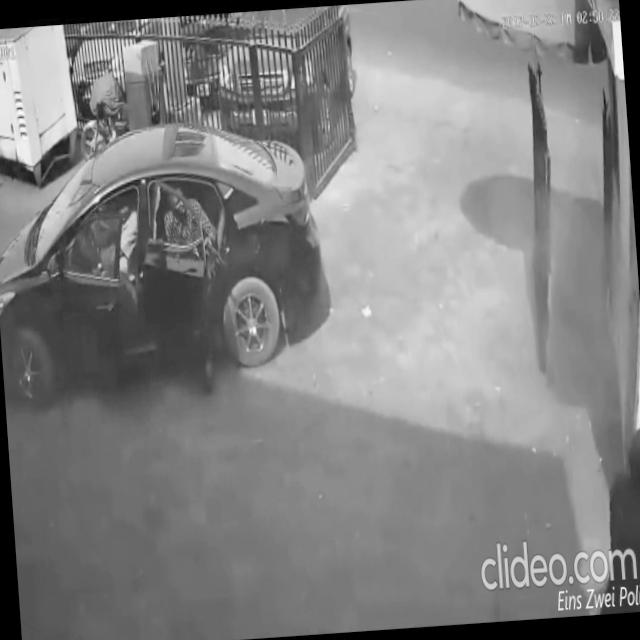gun: (189, 228, 232, 276)
person: (583, 421, 640, 615), (82, 192, 148, 337)
person with a gun: (154, 178, 242, 396)
